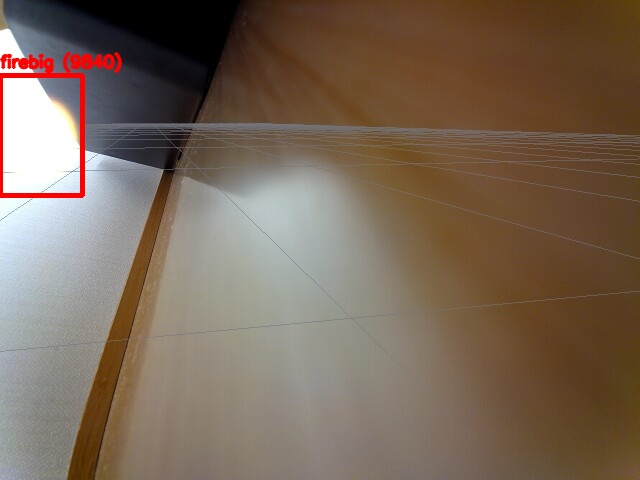firebig: (0, 75, 82, 195)
